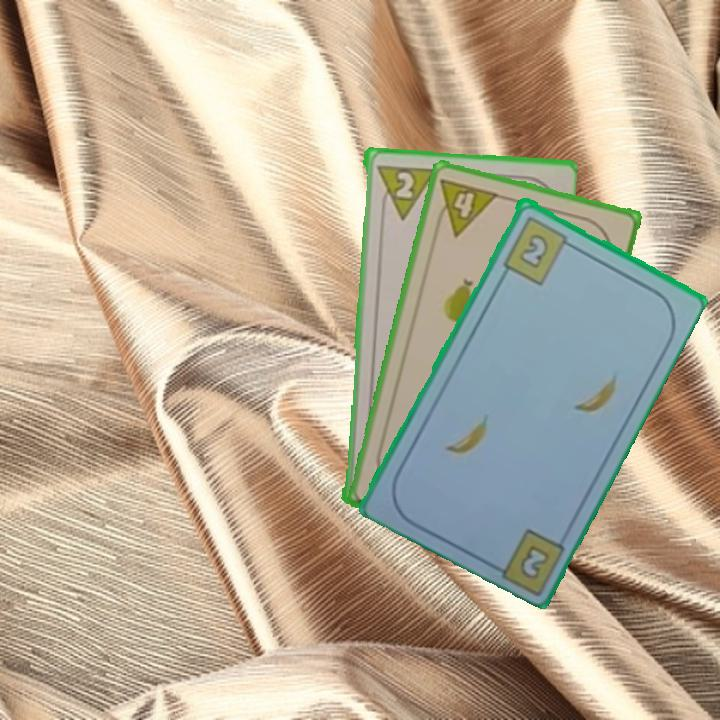2b: (499, 212, 577, 287), (516, 540, 553, 582)
2p: (372, 161, 435, 222)
4p: (430, 174, 501, 239)
